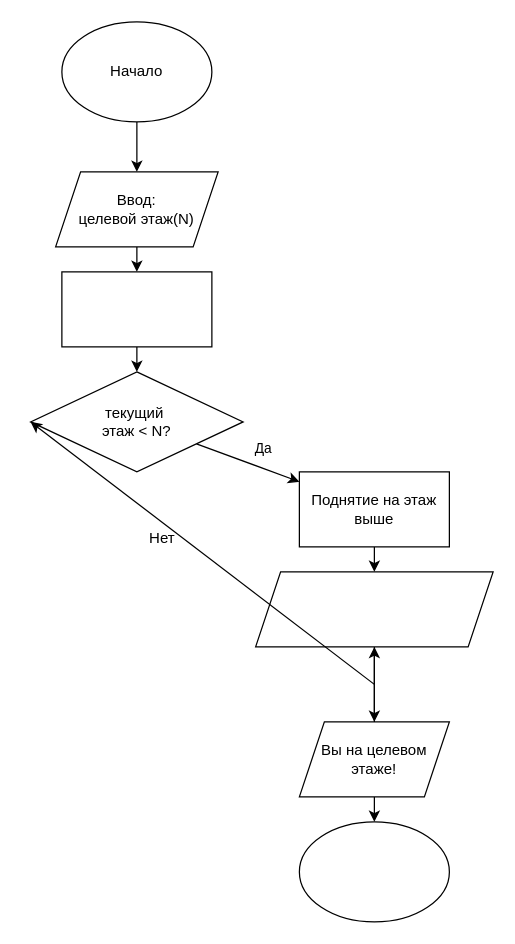
This 515x944 diagram has some shape labels left out. The centre of each missing label's shape, as x and y in pixels:
Конец: point 373,871
текущий этаж = 1: point 136,309
текущий этаж = текущий этаж +1: point 373,609
